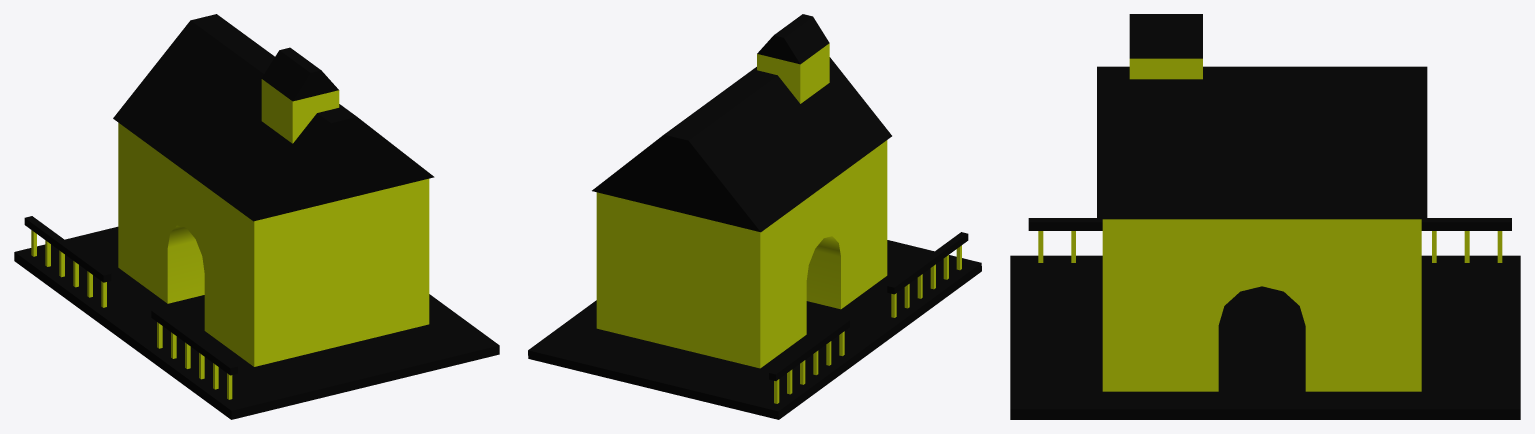
File: staticMesh_TrainStation.fbx
3 views of the same model, side by side, from view 1: azimuth 30°, elevation 25°; view 2: azimuth 150°, elevation 25°; view 3: azimuth 270°, elevation 25° (orthographic). The views are drawn at different scales.
Parts seen in each view (by area): view 1: pCube73; view 2: pCube73; view 3: pCube73.
Boxes of the visible parts, box(x1,y1,x2,y2) form: pCube73: box(14, 14, 499, 419); pCube73: box(528, 14, 981, 419); pCube73: box(1010, 14, 1520, 419).
Size of the model in its own units: 45.76 by 45.31 by 64.14.
